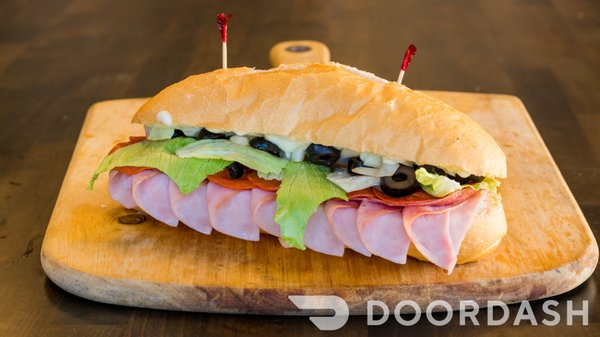soup: (77, 61, 516, 288)
